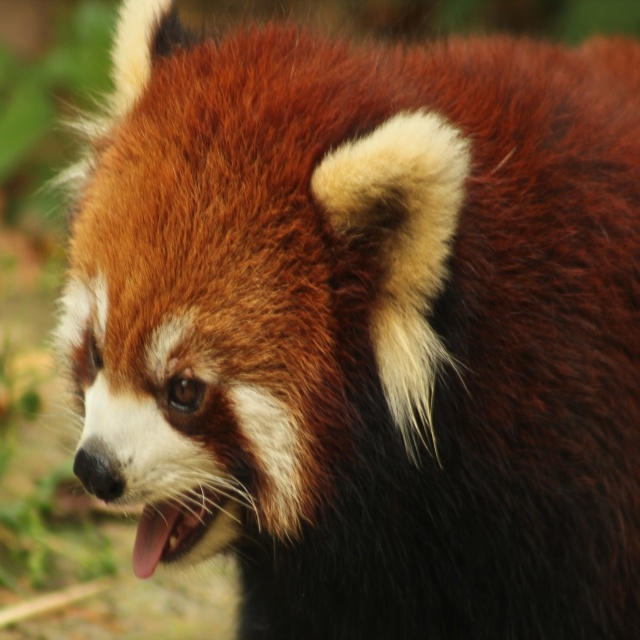Red panda: (40, 0, 640, 639)
